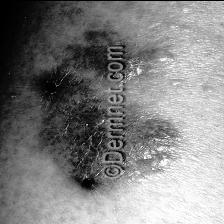Non-Cancerous Skin Condition: (3, 20, 102, 216), (126, 21, 210, 185)
